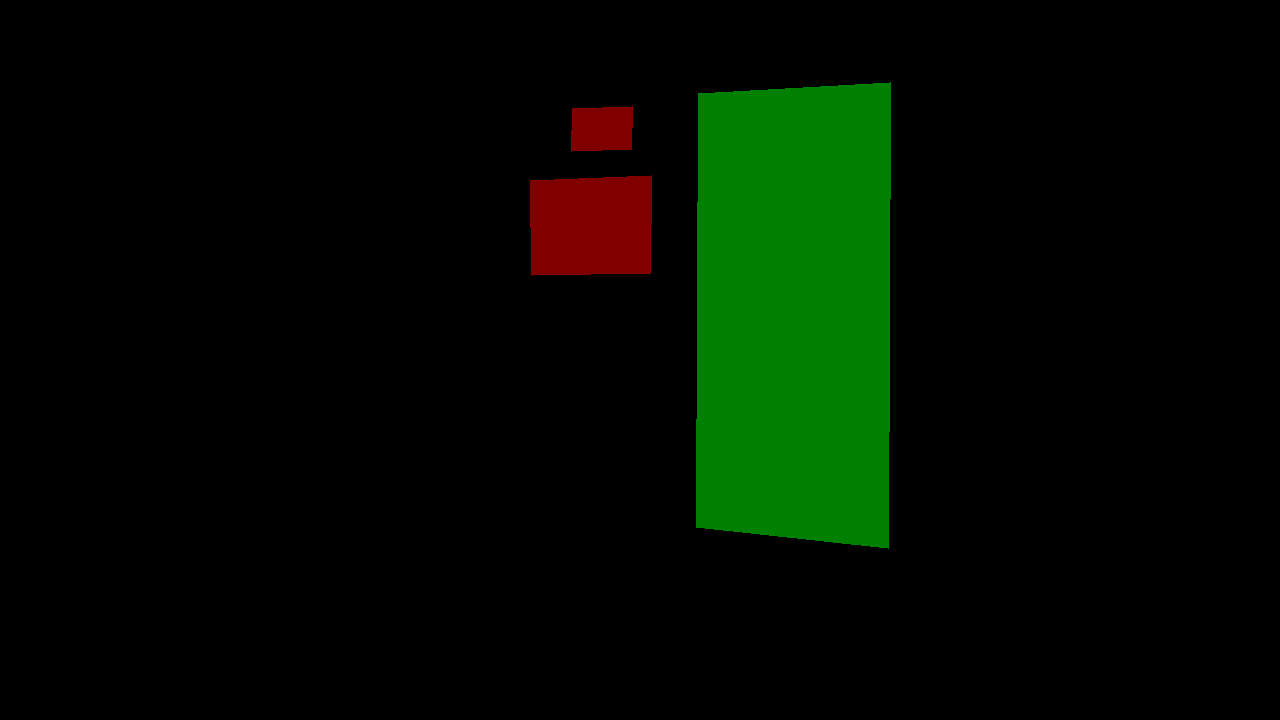door: (696, 82, 890, 548)
sign: (530, 175, 651, 275), (764, 199, 819, 254), (571, 106, 632, 151)
